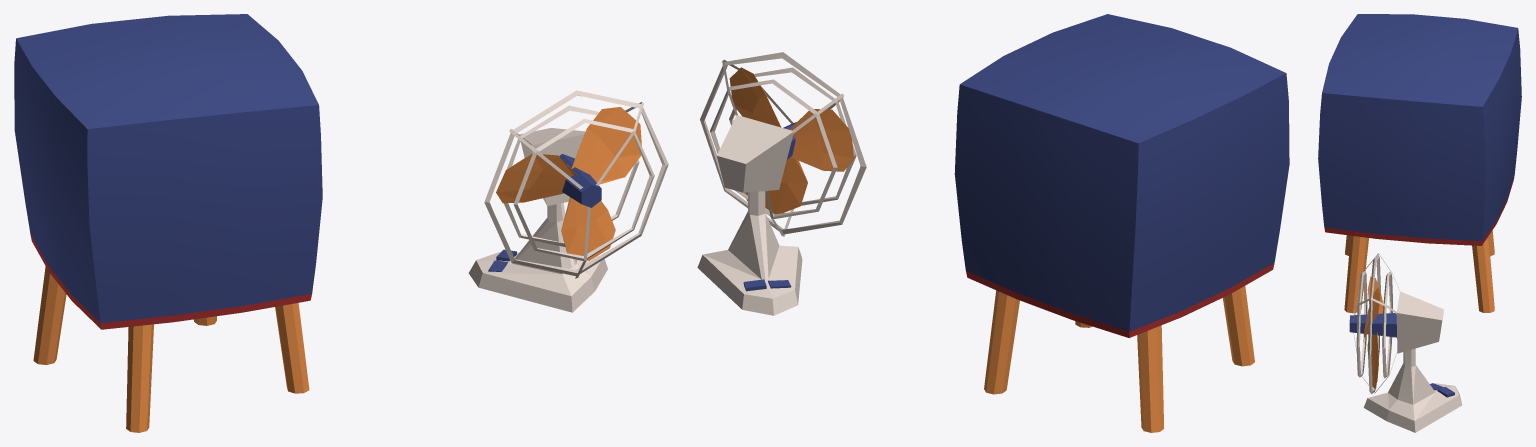
Rendered from Fan & STOOL (1).fbx.
The picture shows the model from 3 angles, left to right: view 1: azimuth 30°, elevation 25°; view 2: azimuth 150°, elevation 25°; view 3: azimuth 270°, elevation 25°; orthographic projection. The views are drawn at different scales.
Visible parts, largest first — view 1: Stool, fan, fan wing; view 2: Stool, fan, fan wing; view 3: Stool, fan, fan wing.
Part boxes in pixels (box(x1,y1,x2,y2)): Stool: box(14, 14, 322, 432); fan: box(468, 90, 668, 312); fan wing: box(496, 107, 641, 260); Stool: box(954, 14, 1289, 432); fan: box(697, 52, 866, 315); fan wing: box(729, 67, 854, 214); Stool: box(1318, 14, 1521, 313); fan: box(1349, 253, 1462, 432); fan wing: box(1364, 276, 1383, 388).
Size of the model in its own units: 1.44 by 0.7396 by 0.5953.
